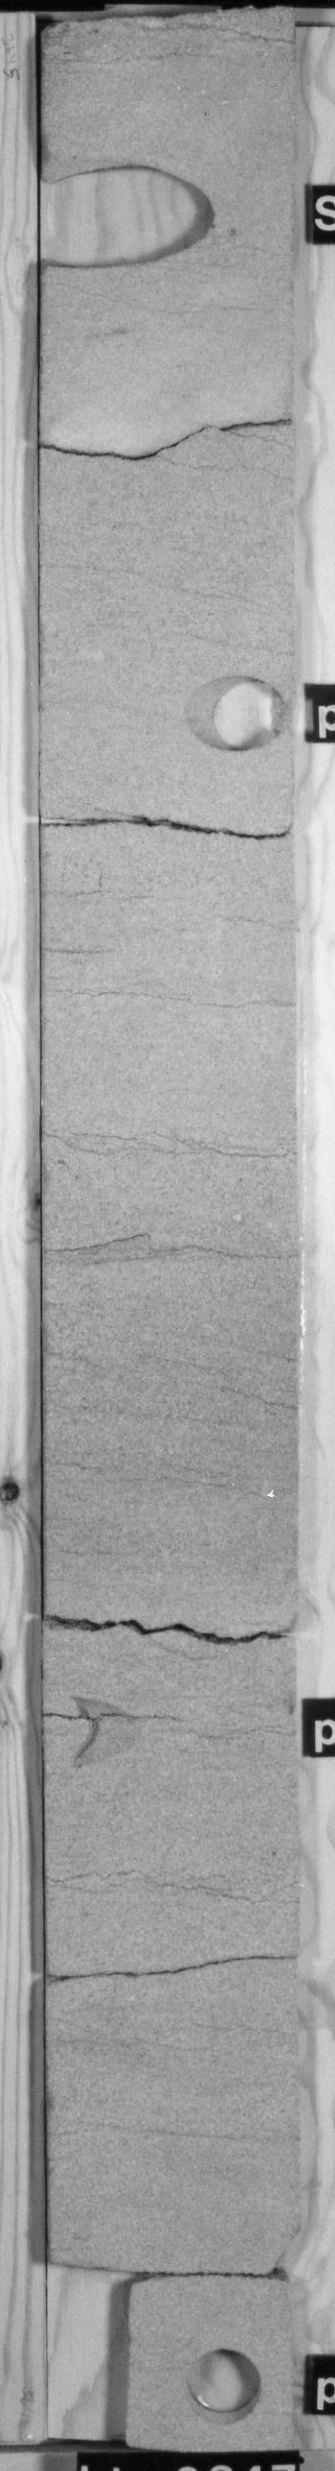hplug: (179, 667, 297, 758), (168, 2342, 275, 2436), (61, 1685, 157, 1779)
scal: (39, 150, 231, 285)
vplug: (49, 2249, 146, 2454)
